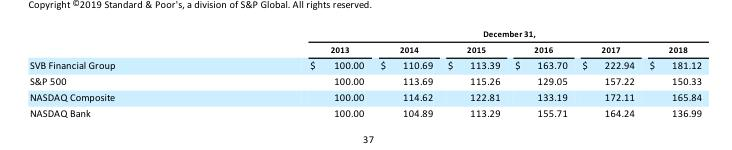table: (29, 29, 701, 118)
table column: (29, 29, 211, 118), (211, 29, 371, 118), (371, 29, 439, 118), (506, 29, 574, 118), (439, 29, 506, 118), (574, 29, 641, 118), (641, 29, 701, 118)
table column header: (29, 29, 701, 57)
table row: (29, 41, 701, 57), (29, 57, 701, 73), (29, 73, 701, 89), (29, 89, 701, 105), (29, 105, 701, 118), (29, 29, 701, 41)
table spanning cell: (211, 29, 701, 41)
